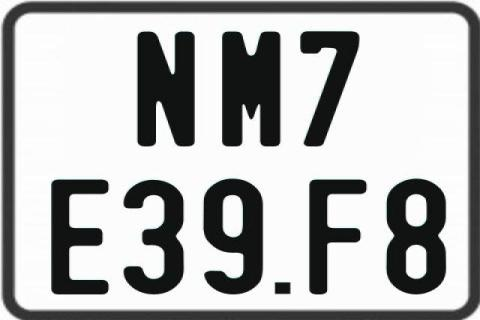0: (297, 31, 362, 150), (124, 180, 189, 299), (386, 176, 450, 295), (203, 177, 268, 293)
E: (50, 179, 114, 295)
F: (309, 179, 371, 299)
M: (222, 32, 284, 149)
N: (136, 31, 194, 147)
